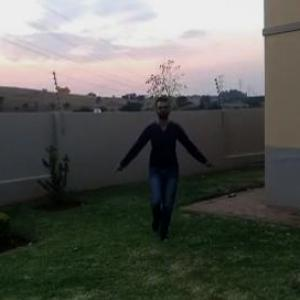land: (117, 100, 209, 232)
